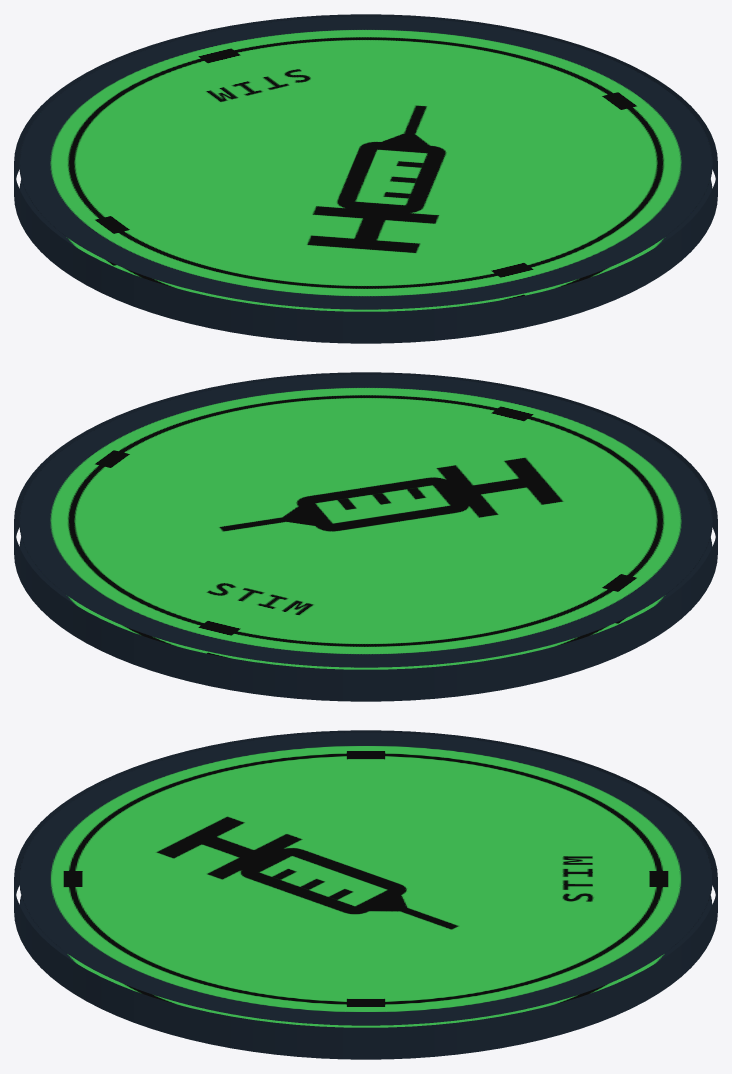
3 renders of one model, top to bottom at view 1: azimuth 30°, elevation 25°; view 2: azimuth 150°, elevation 25°; view 3: azimuth 270°, elevation 25°, orthographic.
Size of the model in its own units: 3.2 by 0.16 by 3.2.
3 materials, 3 textured.
